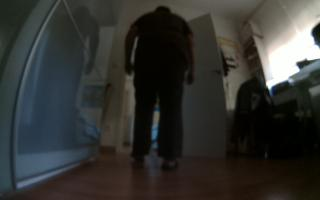person: (119, 2, 199, 175)
